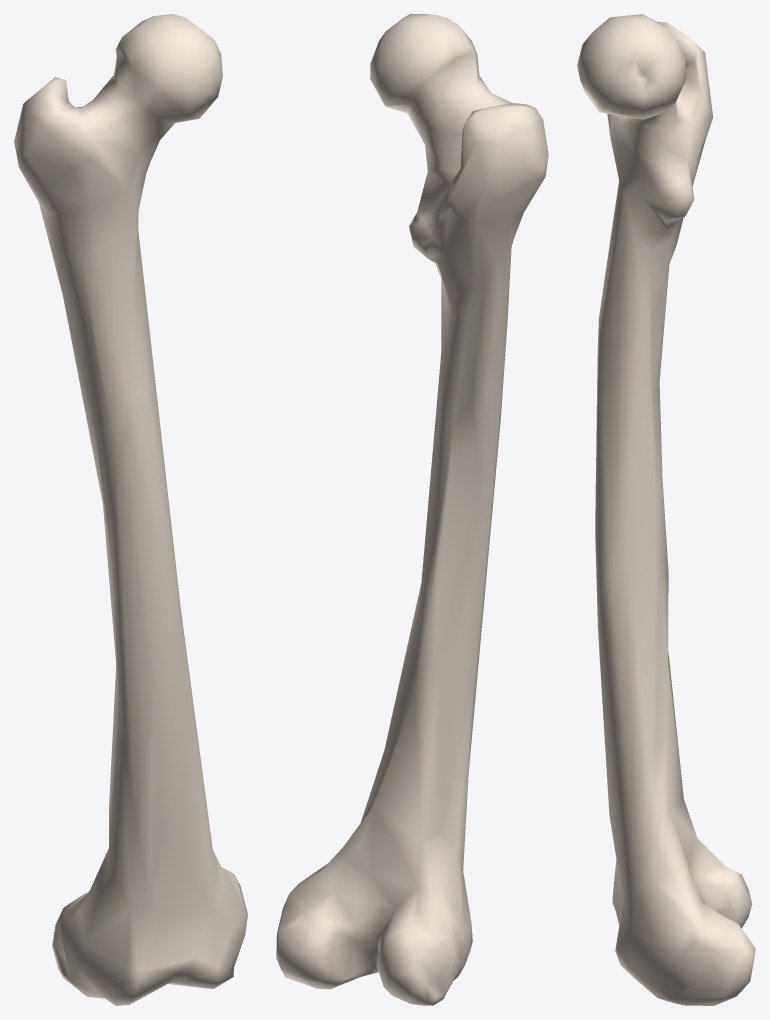
The model's file is right_femur.glb.
3 renders of one model, left to right at view 1: azimuth 30°, elevation 25°; view 2: azimuth 150°, elevation 25°; view 3: azimuth 270°, elevation 25°, orthographic. The views are drawn at different scales.
Visible parts, largest first — view 1: Femur.r; view 2: Femur.r; view 3: Femur.r.
Boxes of the visible parts, x1,y1,x2,y2 form: Femur.r: (14, 14, 247, 1005); Femur.r: (276, 14, 548, 1005); Femur.r: (577, 14, 755, 1005).
Bounding box in the file's own units: 0.1153 × 0.4509 × 0.0769.
